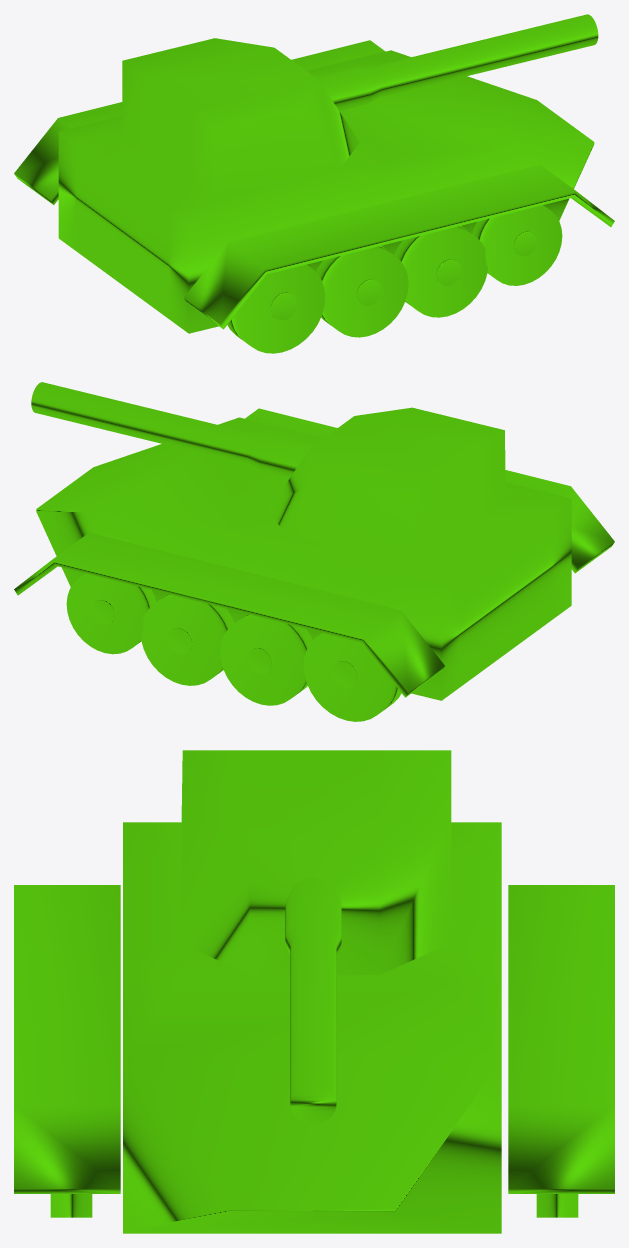
Rendered from tank.fbx.
3 views of the same model, one above another, from view 1: azimuth 30°, elevation 25°; view 2: azimuth 150°, elevation 25°; view 3: azimuth 270°, elevation 25° (orthographic). The views are drawn at different scales.
Parts seen in each view (by area): view 1: Cube_004; view 2: Cube_004; view 3: Cube_004.
Part boxes in pixels (x1,y1,x2,y2): Cube_004: (14, 14, 614, 353); Cube_004: (14, 382, 614, 721); Cube_004: (14, 750, 614, 1233).
Bounding box in the file's own units: 11.22 × 4.57 × 8.48.
